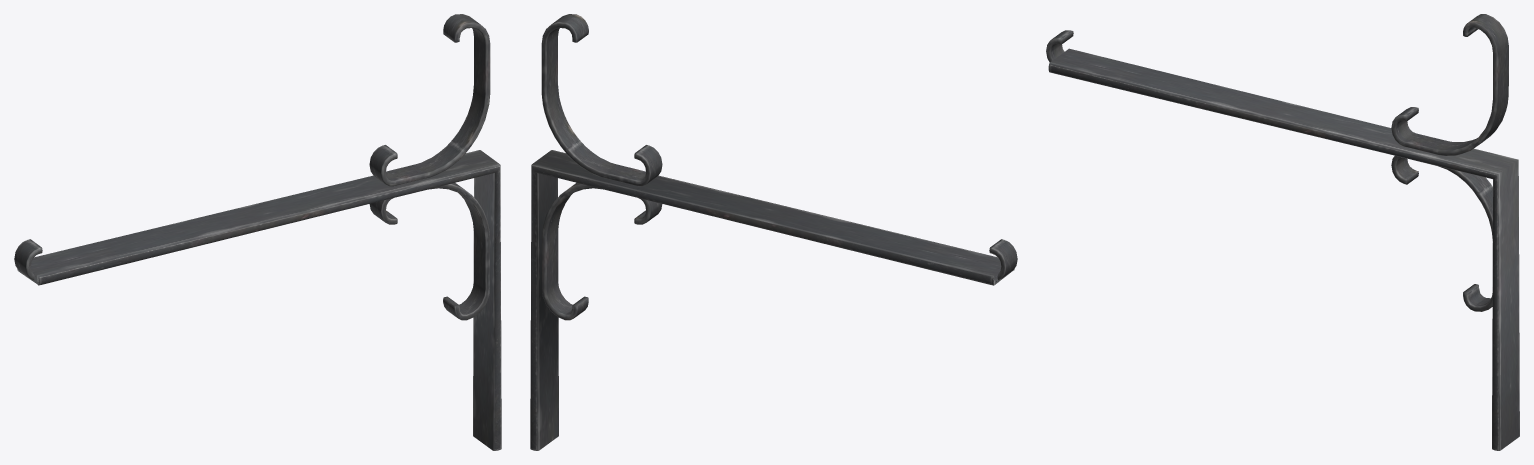
File: SM_Sign_Hanger.fbx
The picture shows the model from 3 angles, left to right: view 1: azimuth 30°, elevation 25°; view 2: azimuth 150°, elevation 25°; view 3: azimuth 330°, elevation 25°; orthographic projection. The views are drawn at different scales.
Visible parts, largest first — view 1: SM_Sign_Hanger_LOD0; view 2: SM_Sign_Hanger_LOD0; view 3: SM_Sign_Hanger_LOD0.
Boxes of the visible parts, x1,y1,x2,y2 form: SM_Sign_Hanger_LOD0: (14,14,501,450); SM_Sign_Hanger_LOD0: (530,14,1017,450); SM_Sign_Hanger_LOD0: (1046,14,1519,450).
Bounding box in the file's own units: 247 × 20 × 215.
1 material, 1 textured.
